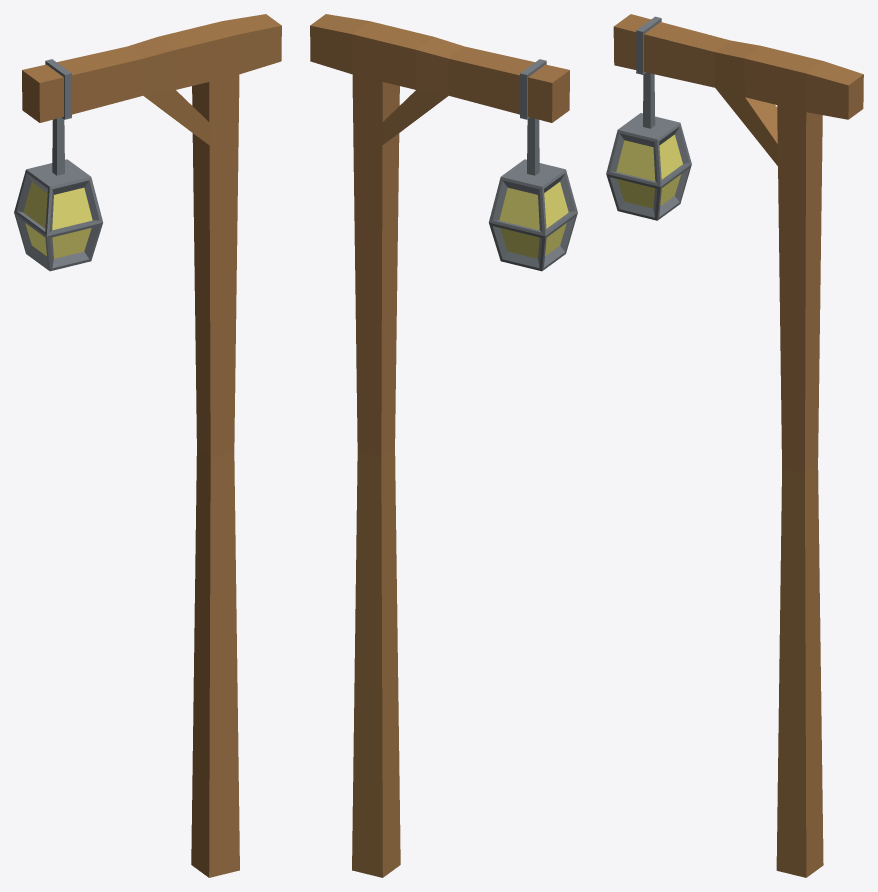
File: Street_Lamp.fbx
3 views of the same model, side by side, from view 1: azimuth 30°, elevation 25°; view 2: azimuth 150°, elevation 25°; view 3: azimuth 330°, elevation 25° (orthographic). The views are drawn at different scales.
Visible parts, largest first — view 1: Street_Lamp; view 2: Street_Lamp; view 3: Street_Lamp.
Boxes of the visible parts, x1,y1,x2,y2 form: Street_Lamp: (14, 14, 281, 877); Street_Lamp: (310, 14, 577, 877); Street_Lamp: (606, 14, 863, 877).
Bounding box in the file's own units: 114 × 376 × 26.55.
